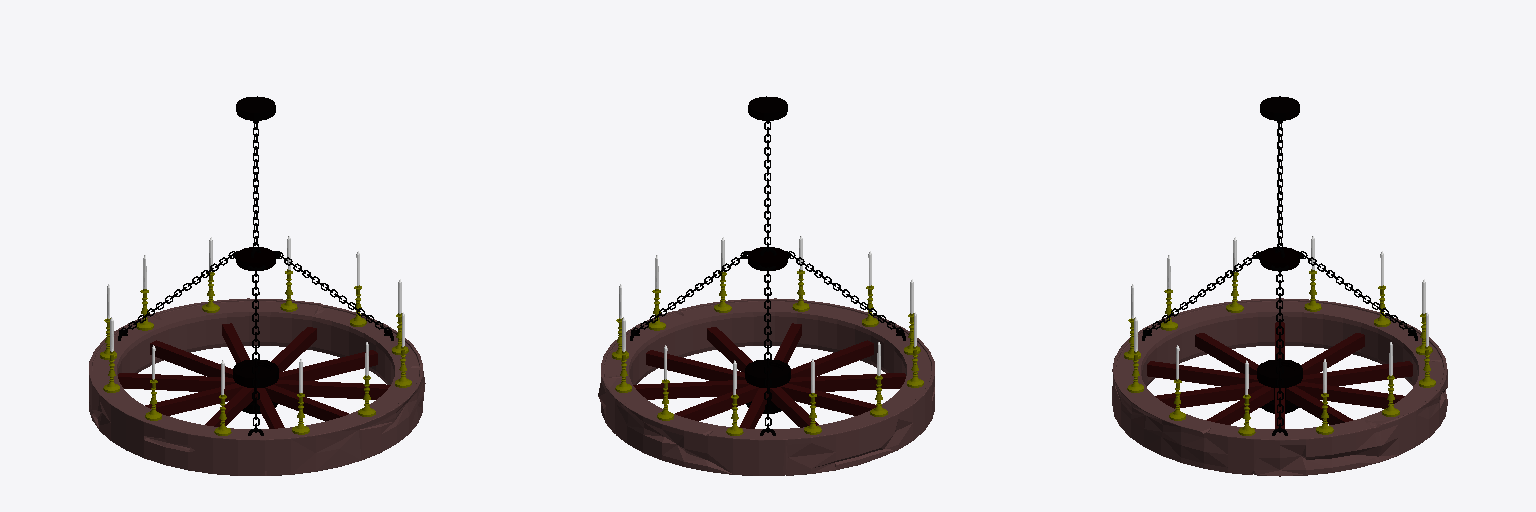
Rendered from chandelier.obj.
The picture shows the model from 3 angles: view 1: azimuth 30°, elevation 25°; view 2: azimuth 150°, elevation 25°; view 3: azimuth 270°, elevation 25°; orthographic projection.
Parts seen in each view (by area): view 1: pPipe1_Mesh.002, pCube334_Mesh.010, pCube329_Mesh.006, pCube330_Mesh.005, pCube325_Mesh, pCube333_Mesh.011, pCylinder5_Mesh.001, pCube328_Mesh.007, pCube331_Mesh.009, pCylinder8_Mesh.013, pCube326_Mesh.004, pCylinder7_Mesh.012 (+2 smaller); view 2: pPipe1_Mesh.002, pCube326_Mesh.004, pCube331_Mesh.009, pCube330_Mesh.005, pCube325_Mesh, pCube327_Mesh.003, pCylinder5_Mesh.001, pCube332_Mesh.008, pCylinder8_Mesh.013, pCube329_Mesh.006, pCube334_Mesh.010, pCylinder7_Mesh.012 (+2 smaller); view 3: pPipe1_Mesh.002, pCube327_Mesh.003, pCube333_Mesh.011, pCube328_Mesh.007, pCube332_Mesh.008, pCylinder5_Mesh.001, pCube334_Mesh.010, pCube326_Mesh.004, pCube329_Mesh.006, pCube331_Mesh.009, pCylinder8_Mesh.013, pCylinder7_Mesh.012.
Part boxes in pixels (x1,y1,x2,y2): pPipe1_Mesh.002: (89,298,425,475); pCube334_Mesh.010: (118,373,234,391); pCube329_Mesh.006: (273,380,390,399); pCube330_Mesh.005: (278,350,377,380); pCube325_Mesh: (145,383,243,415); pCube333_Mesh.011: (150,340,232,377); pCylinder5_Mesh.001: (233,359,278,413); pCube328_Mesh.007: (265,385,348,421); pCube331_Mesh.009: (271,327,316,372); pCylinder8_Mesh.013: (236,96,275,120); pCube326_Mesh.004: (205,387,253,426); pCylinder7_Mesh.012: (236,247,275,270); pPipe1_Mesh.002: (598,298,934,475); pCube326_Mesh.004: (789,373,905,391); pCube331_Mesh.009: (633,380,750,399); pCube330_Mesh.005: (646,350,745,380); pCube325_Mesh: (780,383,876,415); pCube327_Mesh.003: (791,340,873,377); pCylinder5_Mesh.001: (745,359,790,413); pCube332_Mesh.008: (675,385,758,421); pCylinder8_Mesh.013: (748,96,787,120); pCube329_Mesh.006: (707,327,752,372); pCube334_Mesh.010: (770,387,818,427); pCylinder7_Mesh.012: (748,247,787,270); pPipe1_Mesh.002: (1112,298,1447,476); pCube327_Mesh.003: (1147,361,1258,386); pCube333_Mesh.011: (1301,361,1412,386); pCube328_Mesh.007: (1155,382,1264,408); pCube332_Mesh.008: (1295,382,1404,408); pCylinder5_Mesh.001: (1257,359,1302,413); pCube334_Mesh.010: (1301,333,1364,374); pCube326_Mesh.004: (1195,333,1258,374); pCube329_Mesh.006: (1207,386,1273,424); pCube331_Mesh.009: (1286,386,1352,424); pCylinder8_Mesh.013: (1260,96,1299,120); pCylinder7_Mesh.012: (1260,247,1299,270).
Bounding box in the file's own units: 2.04 × 2.03 × 2.04.